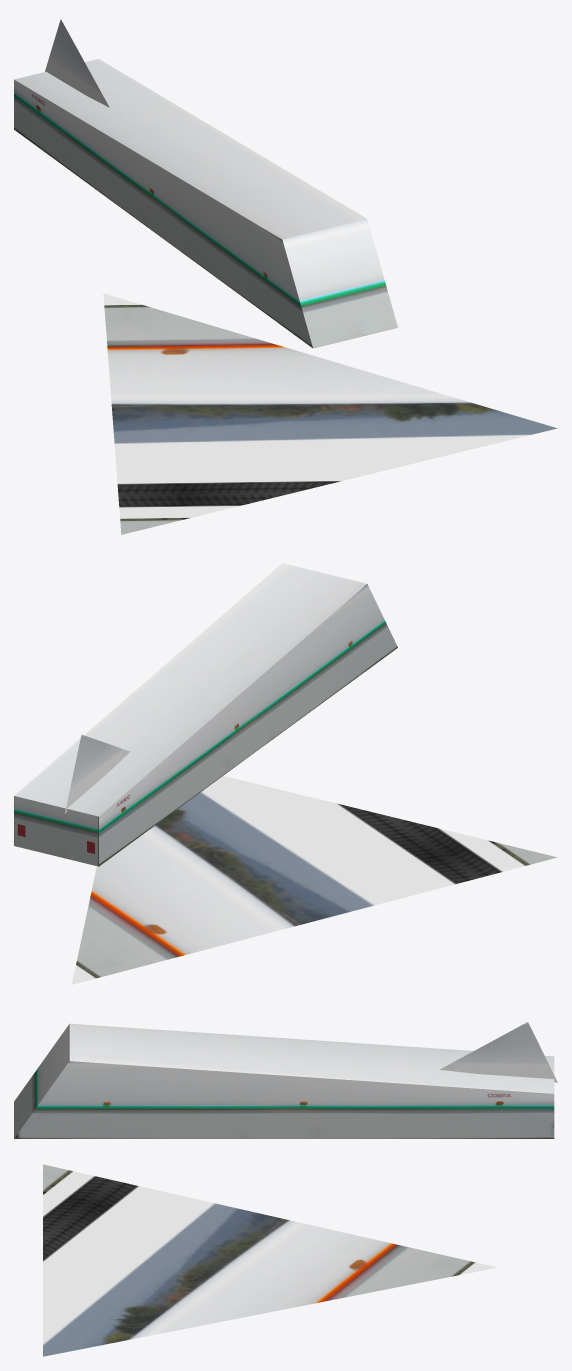
Rendered from glider-trailer-green-9m-cbj_LOD04.gltf.
The picture shows the model from 3 angles, top to bottom: view 1: azimuth 30°, elevation 25°; view 2: azimuth 150°, elevation 25°; view 3: azimuth 270°, elevation 25°; orthographic projection. The views are drawn at different scales.
Parts seen in each view (by area): view 1: trailer04; view 2: trailer04; view 3: trailer04.
Part boxes in pixels (<box>): trailer04: <box>14,19,557,534</box>; trailer04: <box>14,563,557,984</box>; trailer04: <box>14,1022,557,1356</box>.
Bounding box in the file's own units: 7 × 4.12 × 8.36.
